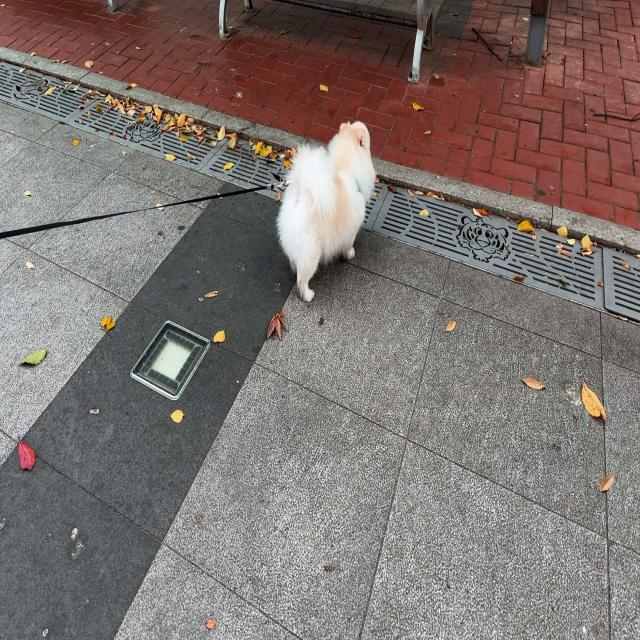Dog: (275, 120, 375, 305)
